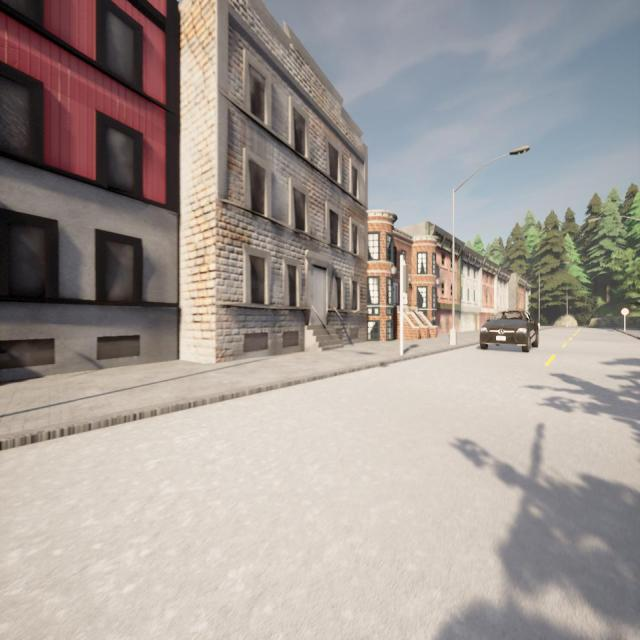Traffic_Signs: (621, 308, 629, 315)
Vehicle: (479, 310, 538, 351)
traffic_light: (401, 265, 408, 293)
